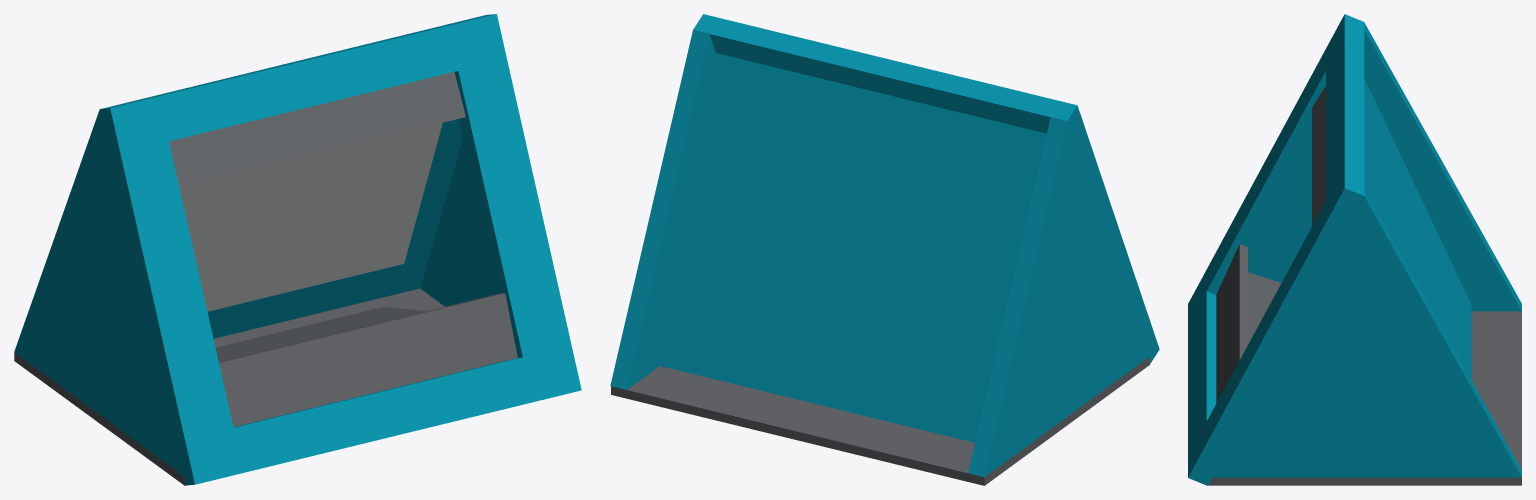
File: Protótipo2_1.glb
3 renders of one model, left to right at view 1: azimuth 30°, elevation 25°; view 2: azimuth 150°, elevation 25°; view 3: azimuth 270°, elevation 25°, orthographic. The views are drawn at different scales.
Parts seen in each view (by area): view 1: Mesh_Mesh_head_geo.001_lambert2SG.001; view 2: Mesh_Mesh_head_geo.001_lambert2SG.001; view 3: Mesh_Mesh_head_geo.001_lambert2SG.001.
Boxes of the visible parts, x1,y1,x2,y2 form: Mesh_Mesh_head_geo.001_lambert2SG.001: (14, 14, 581, 485); Mesh_Mesh_head_geo.001_lambert2SG.001: (610, 14, 1159, 485); Mesh_Mesh_head_geo.001_lambert2SG.001: (1188, 14, 1521, 485).
Bounding box in the file's own units: 0.0451 × 0.036 × 0.0366.
